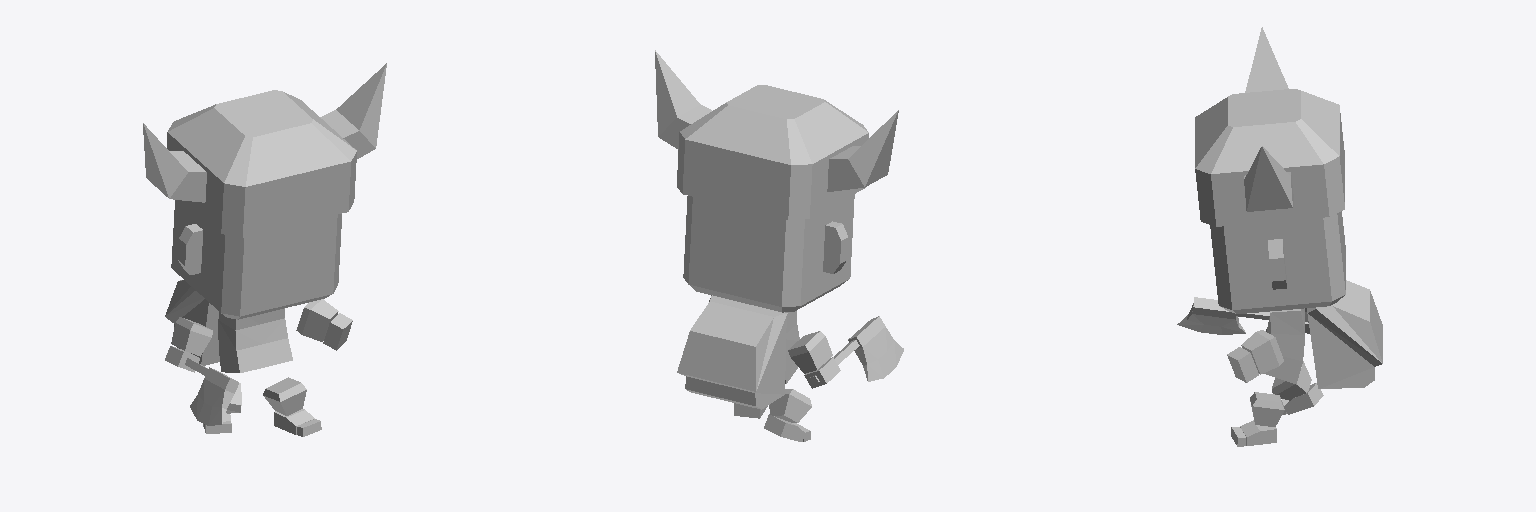
The model's file is mini_knight_000003.obj.
3 renders of one model, left to right at view 1: azimuth 30°, elevation 25°; view 2: azimuth 150°, elevation 25°; view 3: azimuth 270°, elevation 25°, orthographic.
Visible parts, largest first — view 1: cap_Object01_Material__3, Mesh_objheadusOBJexport_Material, back_Object03_Material__3, axe_Object02_Material__3; view 2: cap_Object01_Material__3, Mesh_objheadusOBJexport_Material, back_Object03_Material__3, axe_Object02_Material__3; view 3: cap_Object01_Material__3, Mesh_objheadusOBJexport_Material, back_Object03_Material__3, axe_Object02_Material__3.
Part boxes in pixels (left/top/right/bottom): cap_Object01_Material__3: left=143, top=63, right=386, bottom=237; Mesh_objheadusOBJexport_Material: left=165, top=200, right=352, bottom=436; back_Object03_Material__3: left=165, top=280, right=219, bottom=365; axe_Object02_Material__3: left=185, top=358, right=238, bottom=425; cap_Object01_Material__3: left=655, top=50, right=898, bottom=219; Mesh_objheadusOBJexport_Material: left=683, top=194, right=854, bottom=441; back_Object03_Material__3: left=677, top=295, right=787, bottom=409; axe_Object02_Material__3: left=810, top=316, right=903, bottom=383; cap_Object01_Material__3: left=1195, top=27, right=1344, bottom=226; Mesh_objheadusOBJexport_Material: left=1210, top=211, right=1345, bottom=446; back_Object03_Material__3: left=1307, top=280, right=1382, bottom=388; axe_Object02_Material__3: left=1177, top=297, right=1269, bottom=334.
Size of the model in its own units: 1.94 by 2.58 by 1.41.